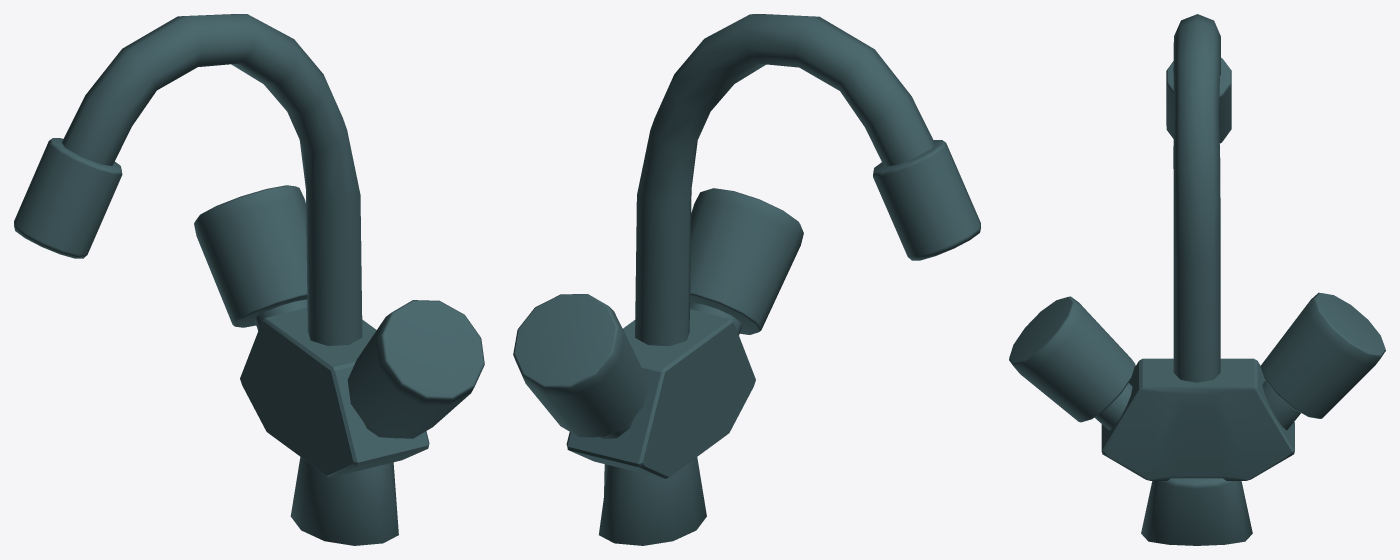
Rendered from Tap_Grp.fbx.
The picture shows the model from 3 angles, left to right: view 1: azimuth 30°, elevation 25°; view 2: azimuth 150°, elevation 25°; view 3: azimuth 270°, elevation 25°; orthographic projection. The views are drawn at different scales.
Parts seen in each view (by area): view 1: Tap_Grp; view 2: Tap_Grp; view 3: Tap_Grp.
Part boxes in pixels (x1,y1,x2,y2): Tap_Grp: (14, 14, 484, 545); Tap_Grp: (513, 14, 980, 545); Tap_Grp: (1009, 14, 1385, 545).
Bounding box in the file's own units: 137 × 193 × 148.
